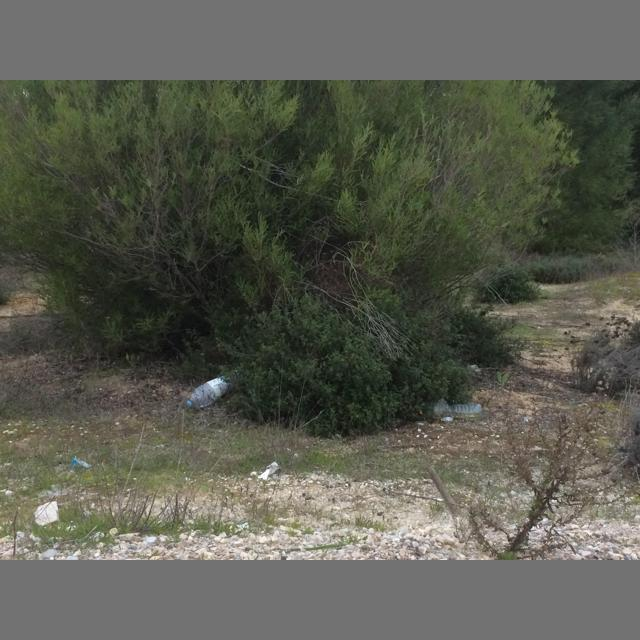litter: (186, 377, 233, 408), (432, 401, 482, 421), (258, 461, 279, 480), (71, 456, 91, 468)
